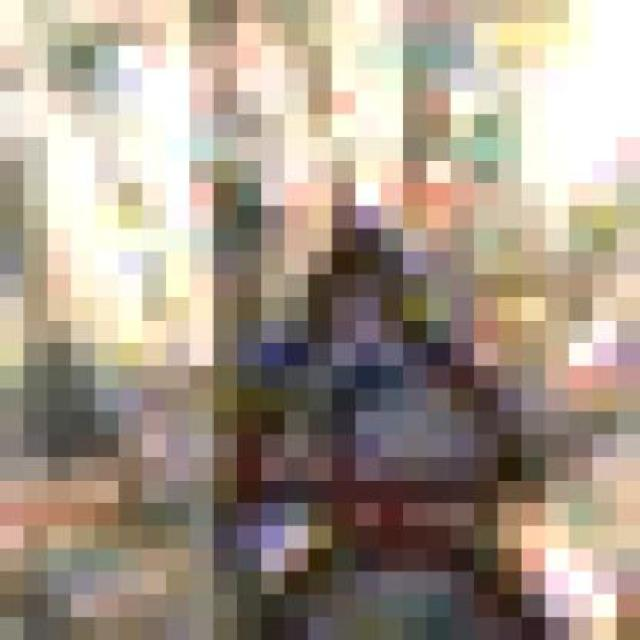Dangerous Rright Curve Ahead: (176, 228, 556, 524)
